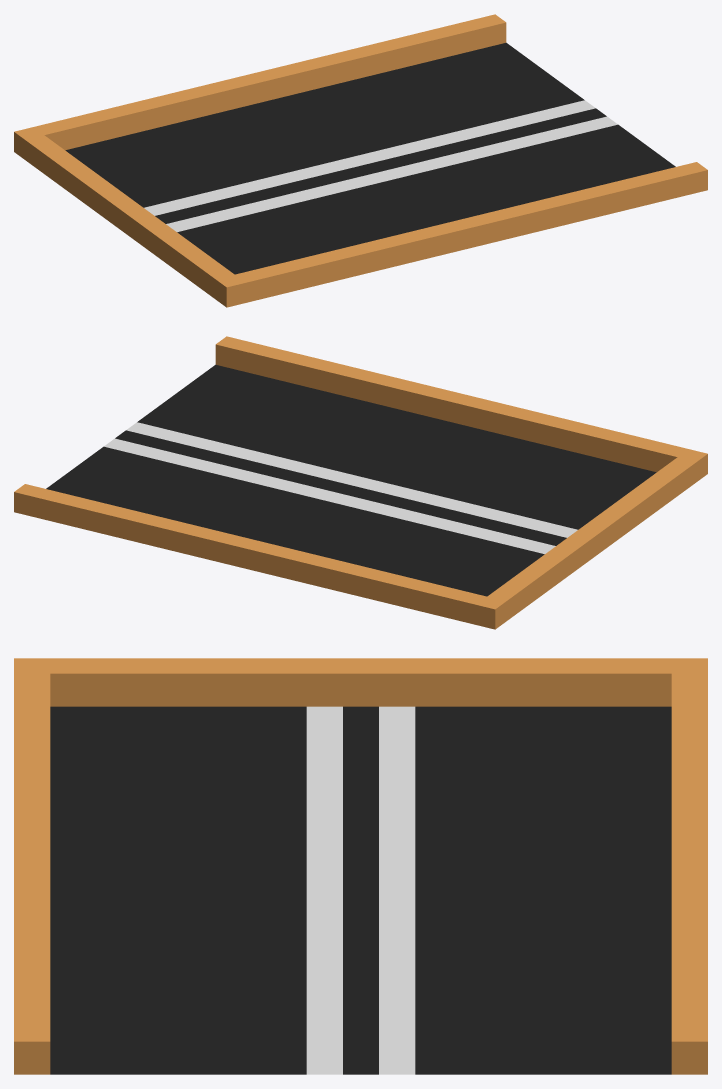
The model's file is Road_End.fbx.
The picture shows the model from 3 angles, top to bottom: view 1: azimuth 30°, elevation 25°; view 2: azimuth 150°, elevation 25°; view 3: azimuth 270°, elevation 25°; orthographic projection. The views are drawn at different scales.
Parts seen in each view (by area): view 1: RoadStraight.009; view 2: RoadStraight.009; view 3: RoadStraight.009.
Boxes of the visible parts, x1,y1,x2,y2 form: RoadStraight.009: (14,14,707,307); RoadStraight.009: (14,336,707,629); RoadStraight.009: (14,658,707,1074).
Size of the model in its own units: 49.97 by 2 by 38.26.
